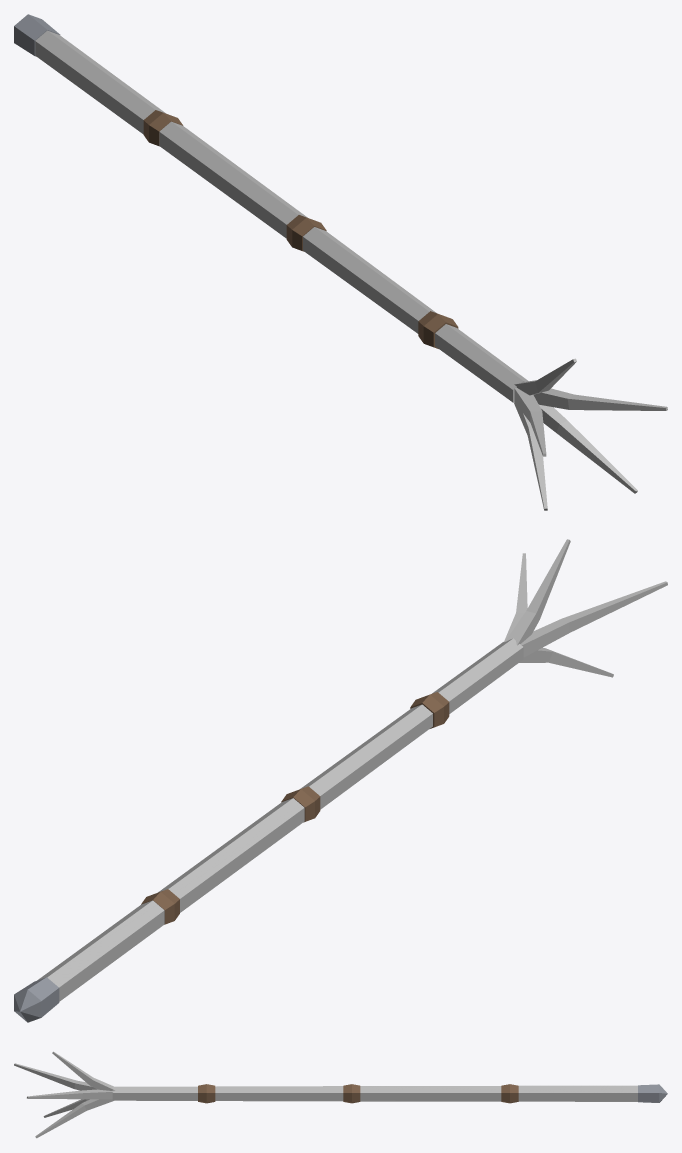
The model's file is reedstaff.glb.
3 renders of one model, top to bottom at view 1: azimuth 30°, elevation 25°; view 2: azimuth 150°, elevation 25°; view 3: azimuth 270°, elevation 25°, orthographic. The views are drawn at different scales.
Parts seen in each view (by area): view 1: reedstaff; view 2: reedstaff; view 3: reedstaff.
Boxes of the visible parts, left/top/right/bottom form: reedstaff: left=14, top=14, right=667, bottom=510; reedstaff: left=14, top=539, right=667, bottom=1022; reedstaff: left=14, top=1051, right=667, bottom=1138.
Bounding box in the file's own units: 0.2037 × 0.1955 × 1.53.
